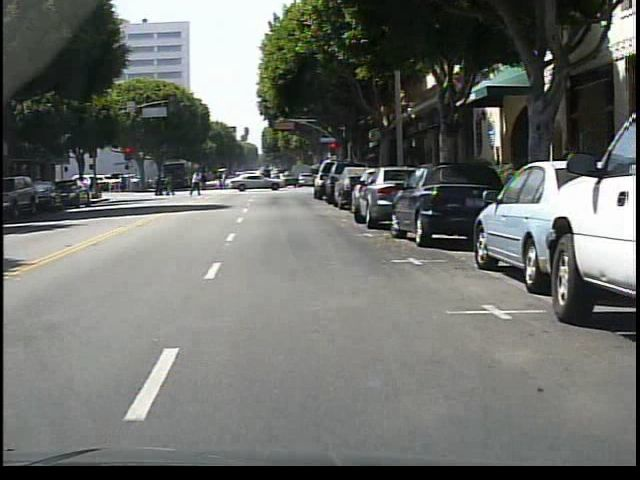person: (185, 168, 205, 197)
